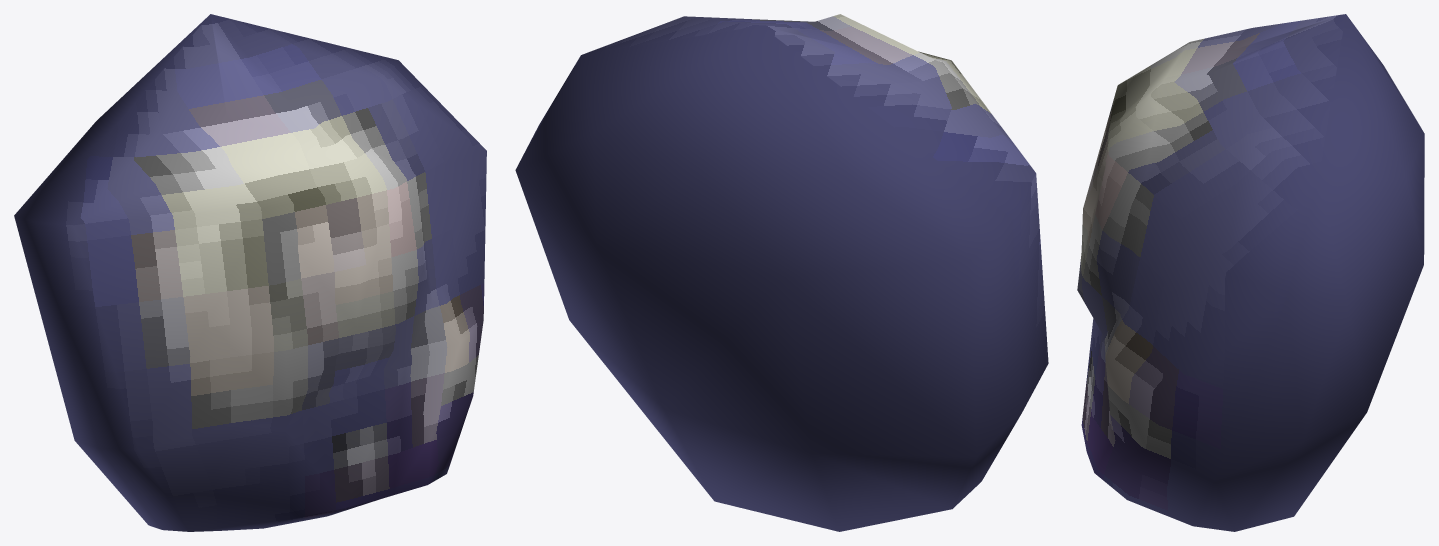
File: fossile.glb
3 views of the same model, side by side, from view 1: azimuth 30°, elevation 25°; view 2: azimuth 150°, elevation 25°; view 3: azimuth 270°, elevation 25° (orthographic). The views are drawn at different scales.
Parts seen in each view (by area): view 1: VisualMaterial0; view 2: VisualMaterial0; view 3: VisualMaterial0.
Part boxes in pixels (x1=…): VisualMaterial0: x1=14, y1=14, x2=486, y2=531; VisualMaterial0: x1=515, y1=14, x2=1048, y2=531; VisualMaterial0: x1=1077, y1=14, x2=1424, y2=531.
Size of the model in its own units: 14.09 by 14.54 by 9.73.
1 material, 1 textured.
